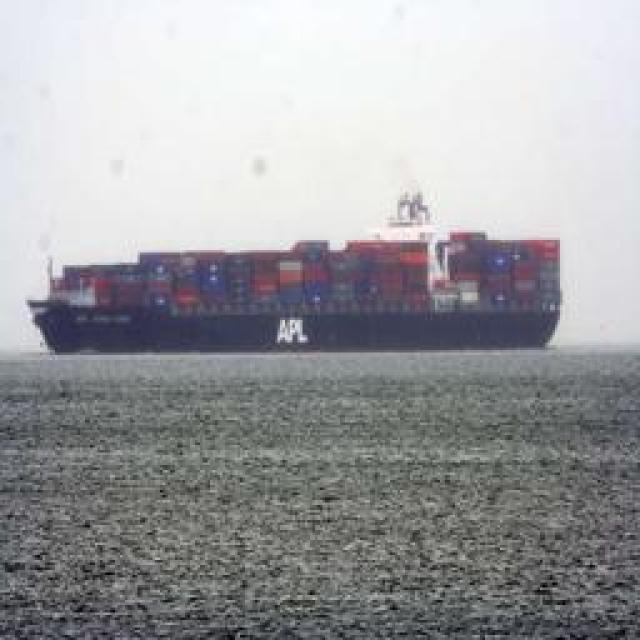Ship: (31, 223, 559, 358)
